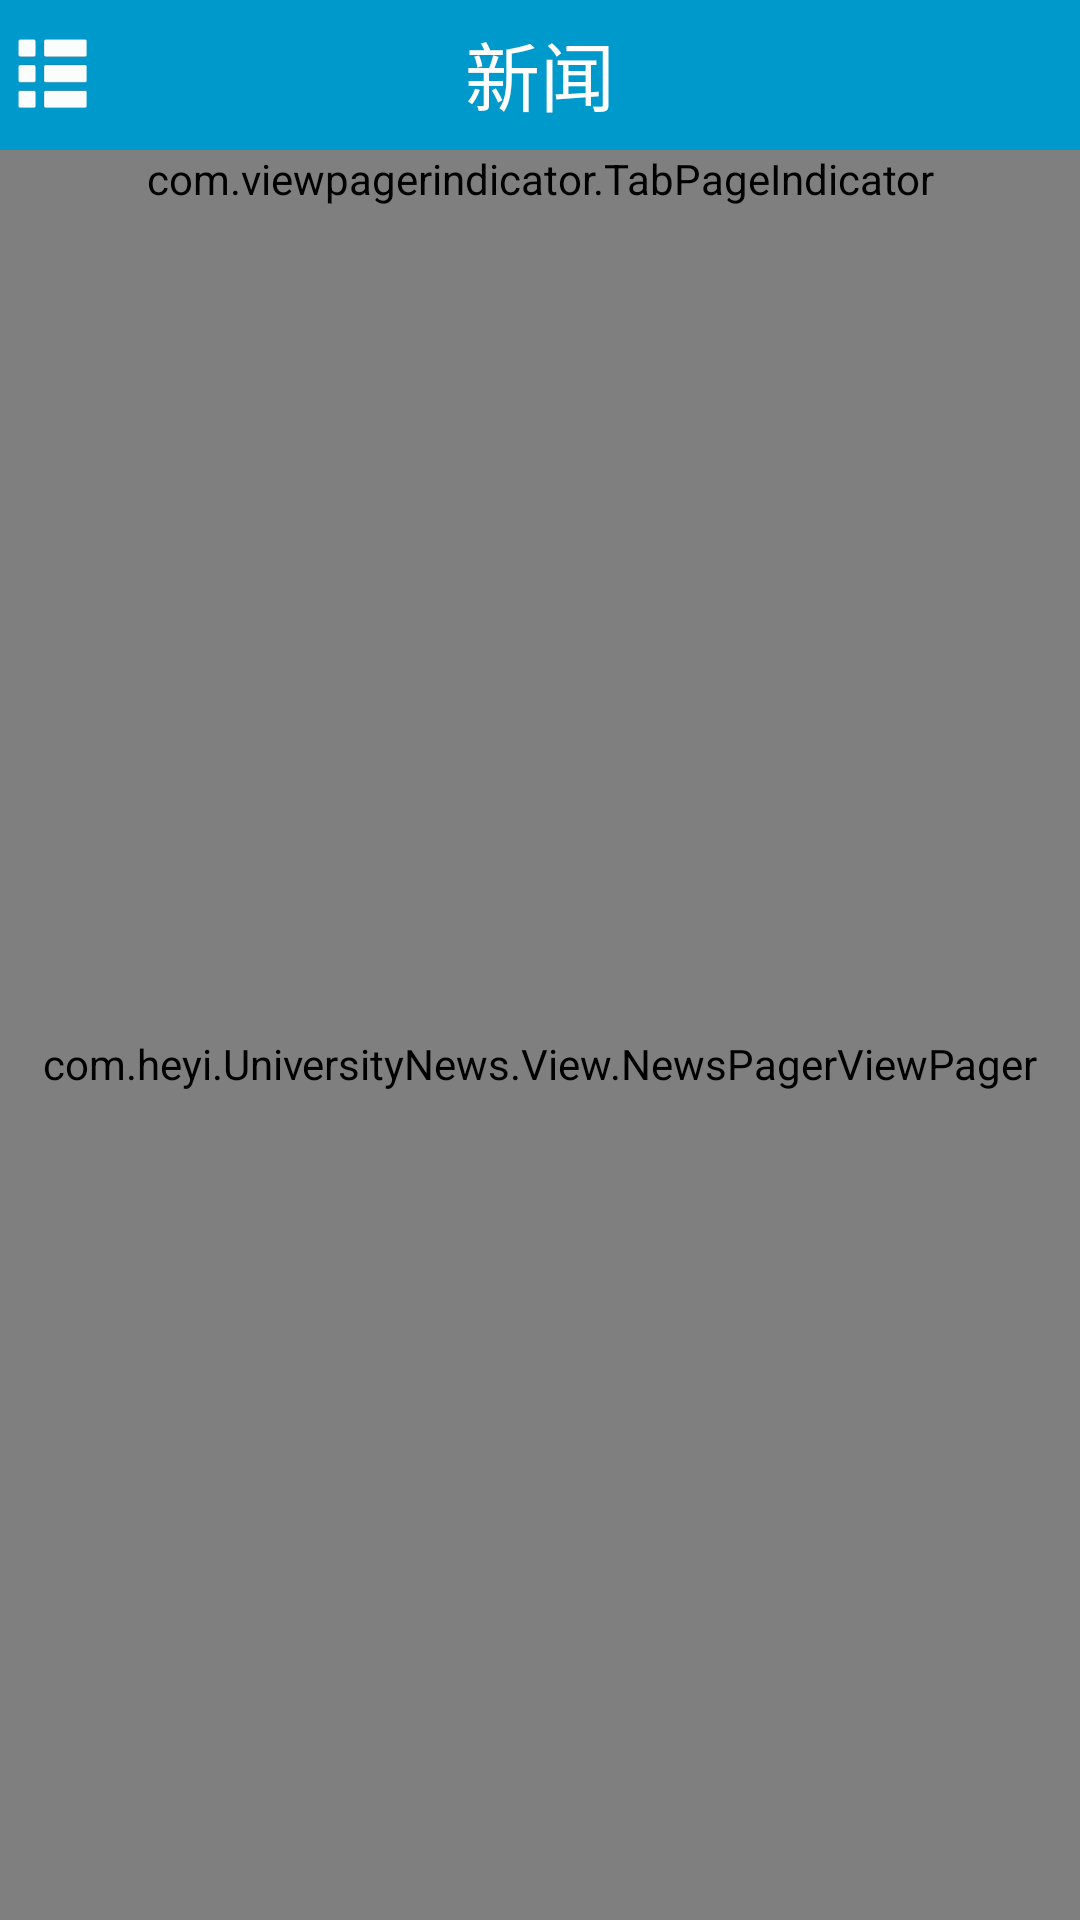

Locate icon controls on the screen. Image size 1080w x 1920h, boxes as box=[x1, y1, x2, y2].
open silding menu: box=[18, 39, 87, 108]
